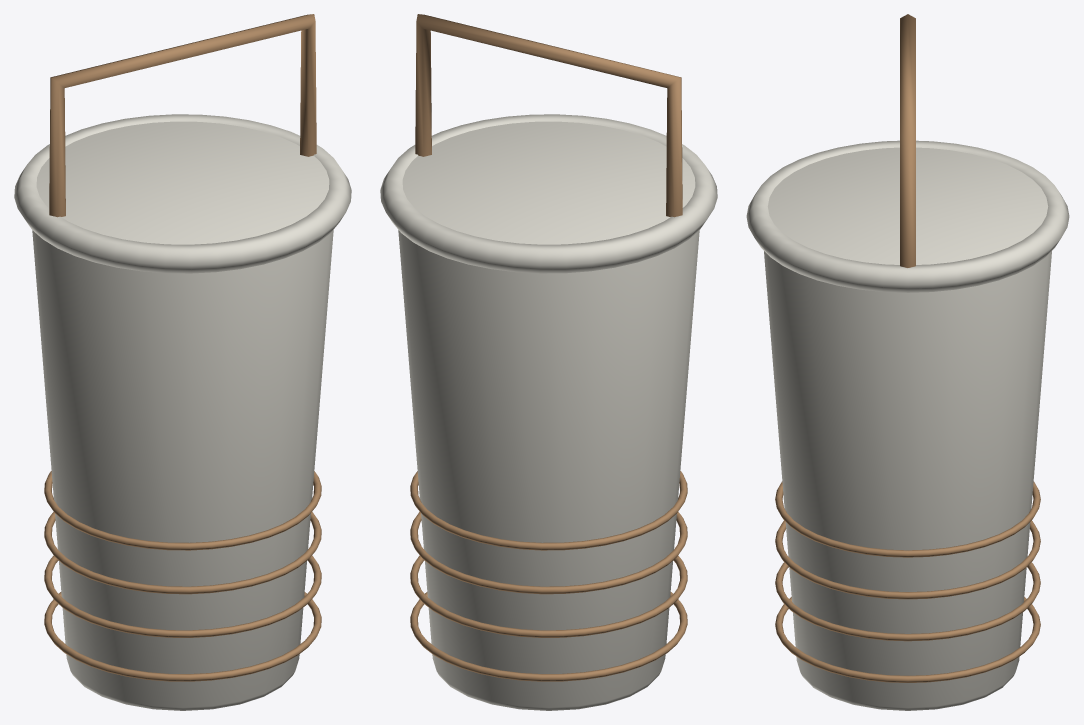
Rendered from atelier-umbrella-stand.glb.
3 views of the same model, side by side, from view 1: azimuth 30°, elevation 25°; view 2: azimuth 150°, elevation 25°; view 3: azimuth 270°, elevation 25° (orthographic). The views are drawn at different scales.
Visible parts, largest first — view 1: ceramic.081, legs.150; view 2: ceramic.081, legs.150; view 3: ceramic.081, legs.150.
Boxes of the visible parts, left/top/right/bottom form: ceramic.081: left=14, top=114, right=351, bottom=710; legs.150: left=44, top=14, right=321, bottom=681; ceramic.081: left=380, top=114, right=717, bottom=710; legs.150: left=410, top=14, right=687, bottom=681; ceramic.081: left=746, top=140, right=1069, bottom=710; legs.150: left=775, top=14, right=1040, bottom=682.
Bounding box in the file's own units: 0.35 × 0.7071 × 0.35.
